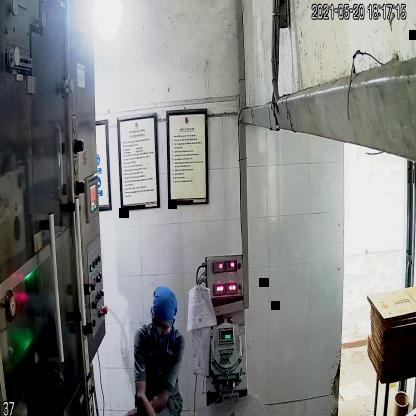goggles: (148, 312, 176, 339)
